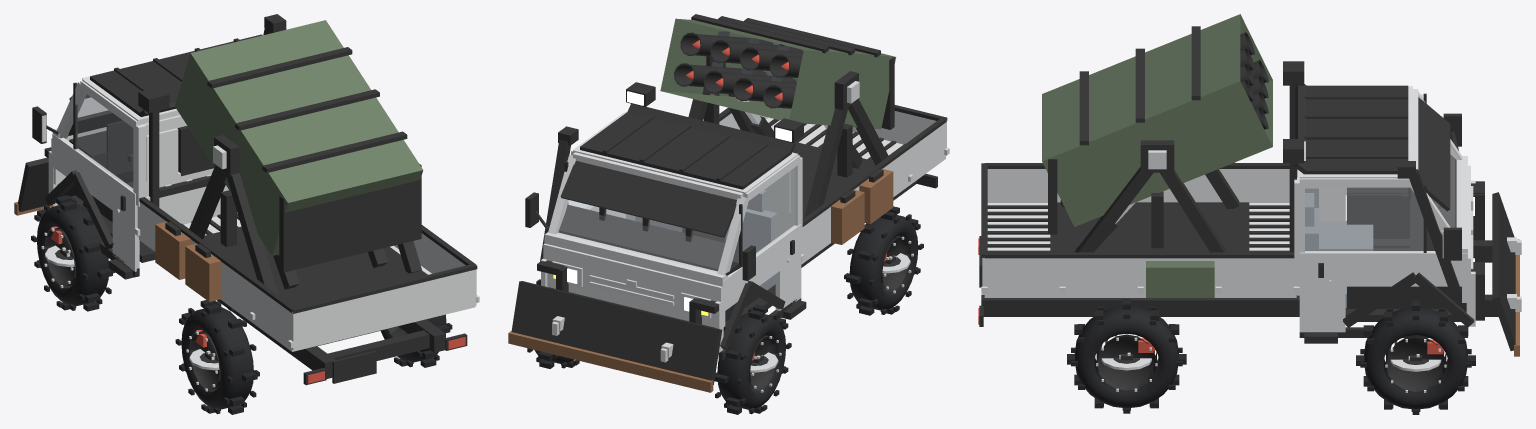
Rendered from missile_truck_j.glb.
3 renders of one model, left to right at view 1: azimuth 30°, elevation 25°; view 2: azimuth 150°, elevation 25°; view 3: azimuth 270°, elevation 25°, orthographic. The views are drawn at different scales.
Visible parts, largest first — view 1: MLRS_Pod, TruckJ_Body, Wheel_RL, Wheel_FL, Wheel_RR; view 2: TruckJ_Body, MLRS_Pod, Wheel_RL, Wheel_FL, Wheel_FR; view 3: TruckJ_Body, MLRS_Pod, Wheel_RR, Wheel_FR.
Part boxes in pixels (bbox=[...]): MLRS_Pod: bbox=[175, 20, 427, 307]; TruckJ_Body: bbox=[14, 14, 479, 385]; Wheel_RL: bbox=[175, 300, 259, 414]; Wheel_FL: bbox=[31, 195, 115, 311]; Wheel_RR: bbox=[381, 314, 452, 367]; TruckJ_Body: bbox=[508, 82, 949, 392]; MLRS_Pod: bbox=[660, 14, 896, 218]; Wheel_RL: bbox=[844, 206, 923, 315]; Wheel_FL: bbox=[714, 304, 791, 414]; Wheel_FR: bbox=[527, 279, 579, 368]; TruckJ_Body: bbox=[978, 61, 1521, 356]; MLRS_Pod: bbox=[1042, 14, 1272, 252]; Wheel_RR: bbox=[1067, 299, 1186, 413]; Wheel_FR: bbox=[1356, 300, 1475, 414].
Bounding box in the file's own units: 1.9 × 2.27 × 3.55.
